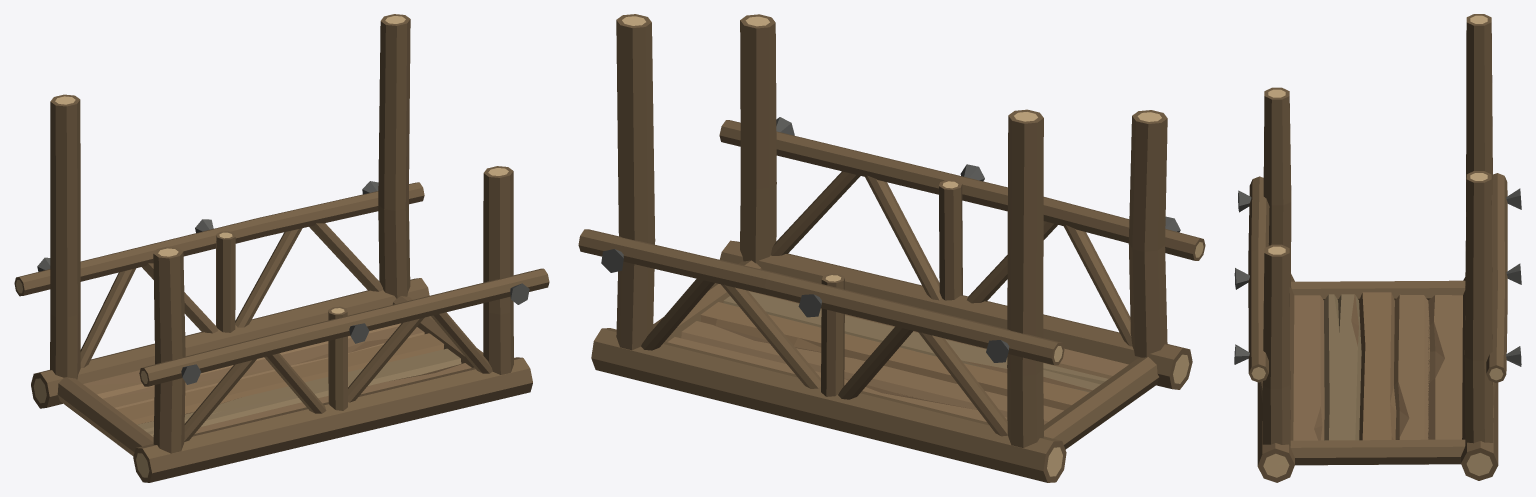
The model's file is rpgpp_ag_gate_balcony_02b.fbx.
3 renders of one model, left to right at view 1: azimuth 30°, elevation 25°; view 2: azimuth 150°, elevation 25°; view 3: azimuth 270°, elevation 25°, orthographic. The views are drawn at different scales.
Parts seen in each view (by area): view 1: rpgpp_ag_gate_balcony_02b; view 2: rpgpp_ag_gate_balcony_02b; view 3: rpgpp_ag_gate_balcony_02b.
Part boxes in pixels (x1=…): rpgpp_ag_gate_balcony_02b: x1=14, y1=14, x2=549, y2=482; rpgpp_ag_gate_balcony_02b: x1=578, y1=14, x2=1205, y2=482; rpgpp_ag_gate_balcony_02b: x1=1234, y1=14, x2=1521, y2=482.
Bounding box in the file's own units: 4.83 × 3.46 × 3.06.
